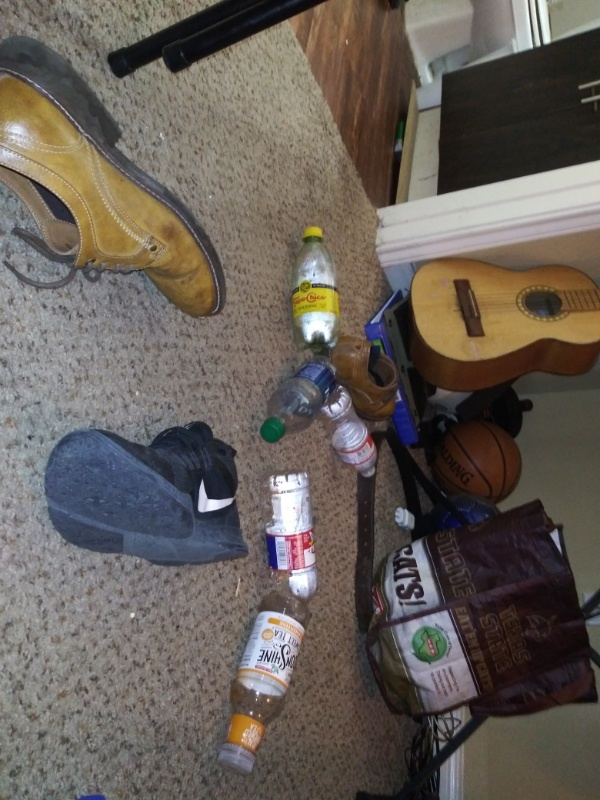bottle: (212, 587, 321, 782), (258, 464, 327, 611), (257, 358, 343, 449), (289, 221, 347, 354), (316, 385, 382, 483)
